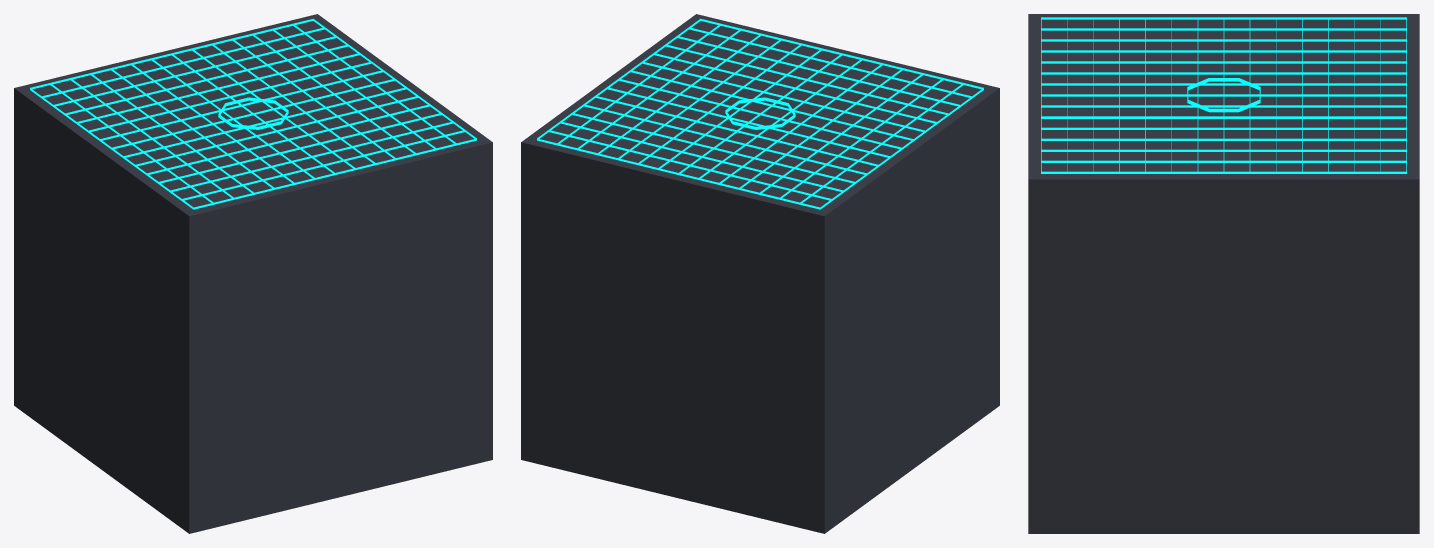
File: floor.glb
3 views of the same model, side by side, from view 1: azimuth 30°, elevation 25°; view 2: azimuth 150°, elevation 25°; view 3: azimuth 270°, elevation 25° (orthographic). The views are drawn at different scales.
Visible parts, largest first — view 1: floor; view 2: floor; view 3: floor.
Part boxes in pixels (x1,y1,x2,y2): floor: (14, 14, 492, 533); floor: (521, 14, 999, 533); floor: (1028, 14, 1419, 533).
Size of the model in its own units: 2 by 2.02 by 2.
